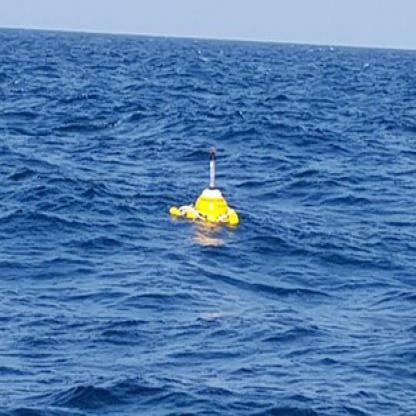buoy: (166, 144, 244, 250)
